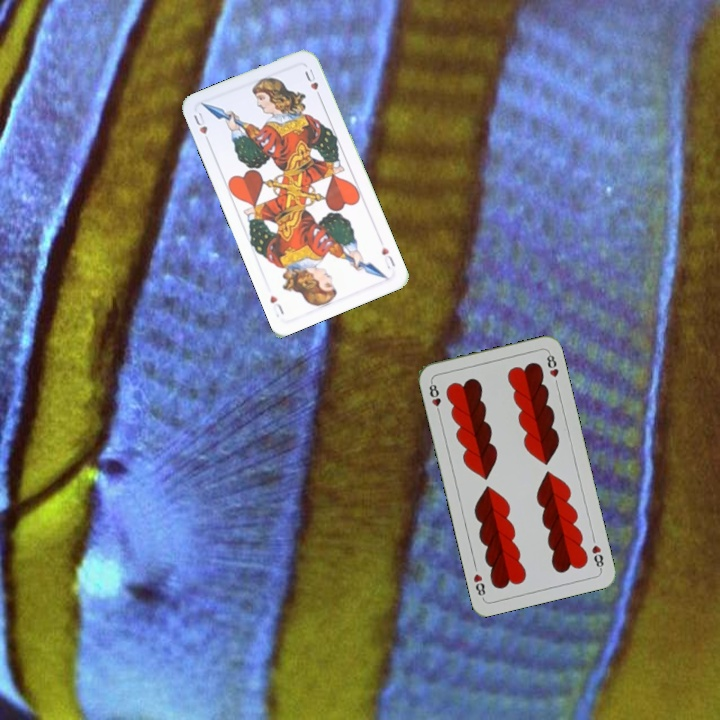H8: (425, 378, 443, 418), (588, 541, 606, 573)
HU: (189, 107, 213, 147), (377, 243, 398, 272)
